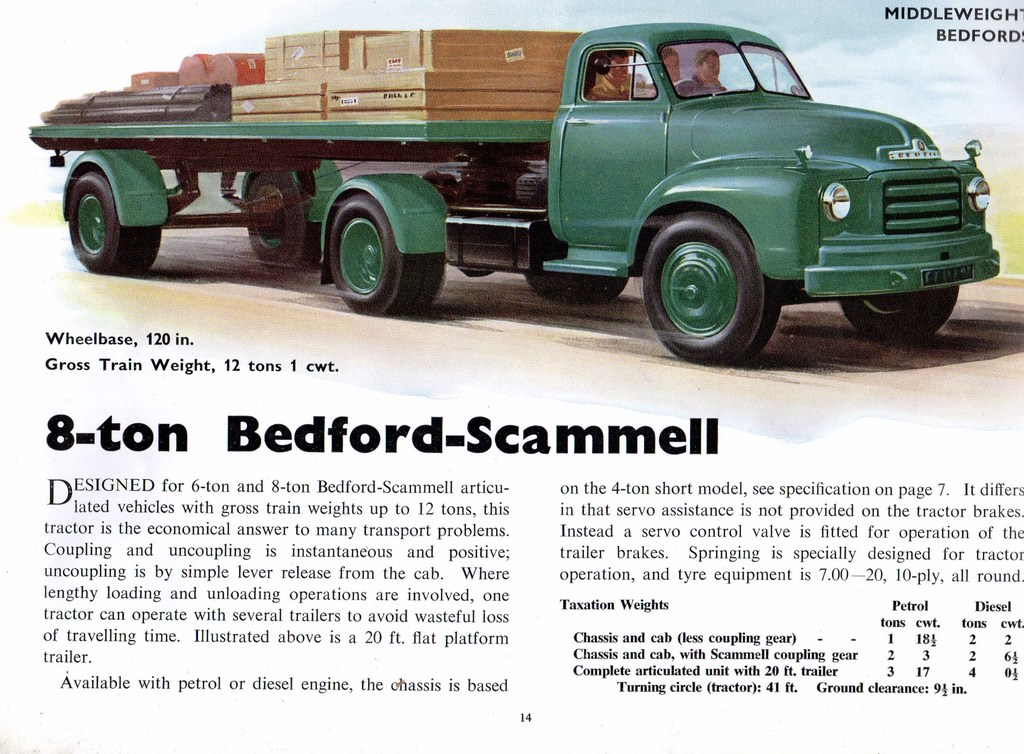truck: (21, 10, 1007, 370)
